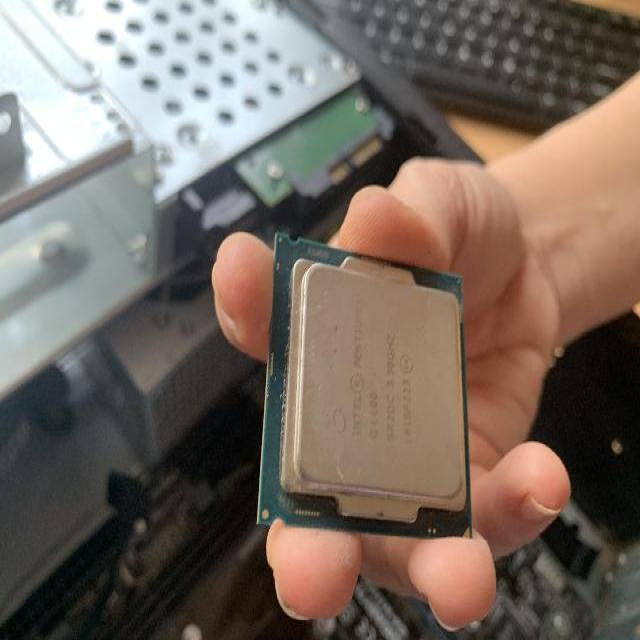CPU: (254, 228, 475, 540)
